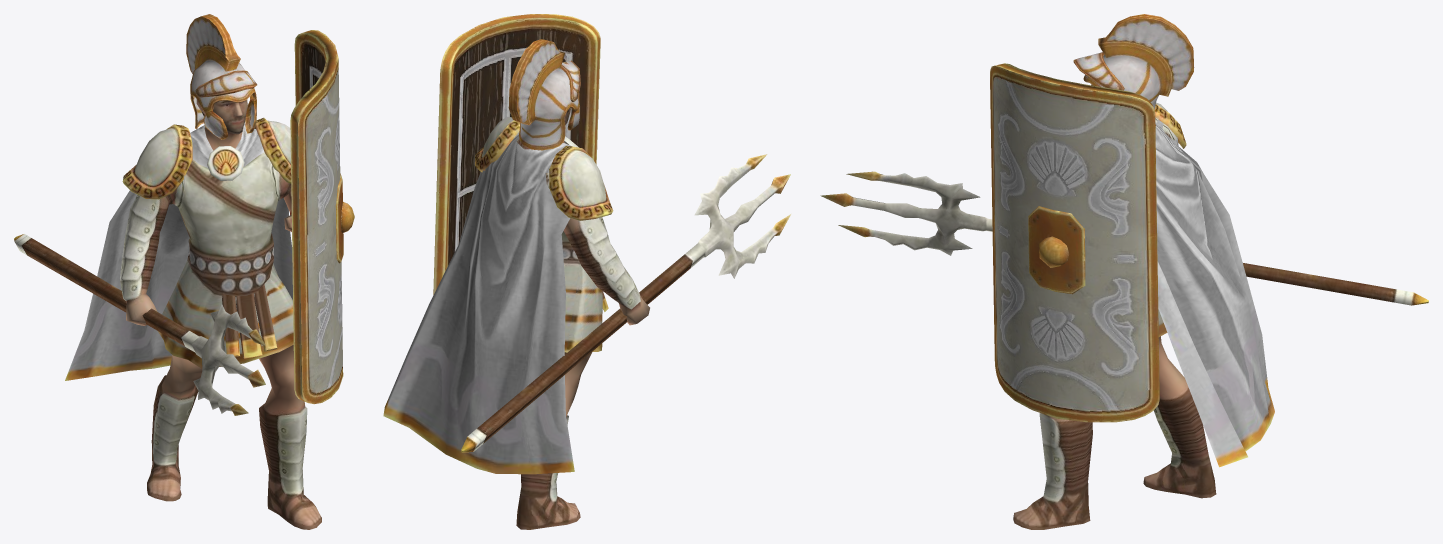
File: 240-destroyerhero.glb
3 renders of one model, left to right at view 1: azimuth 30°, elevation 25°; view 2: azimuth 150°, elevation 25°; view 3: azimuth 270°, elevation 25°, orthographic. The views are drawn at different scales.
Size of the model in its own units: 1.17 by 2.21 by 2.5.
Materials: 4 (4 with a texture image).
